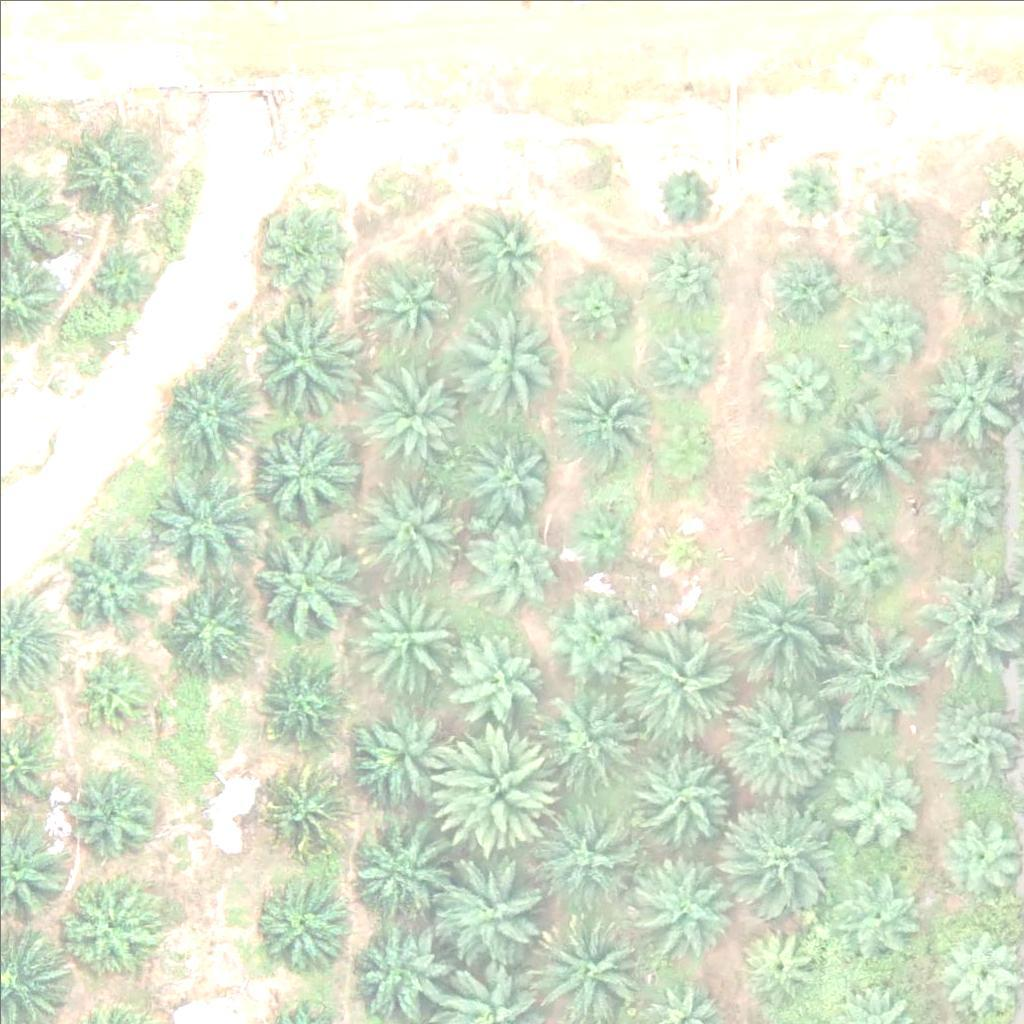Kelapa_Sawit: (427, 724, 552, 850), (437, 858, 550, 972), (148, 471, 261, 584), (247, 527, 360, 640), (243, 416, 356, 529), (531, 799, 644, 912), (624, 744, 737, 857), (727, 683, 840, 796), (728, 580, 840, 694), (245, 304, 357, 417), (632, 843, 744, 956), (627, 626, 739, 739), (730, 792, 842, 905), (162, 362, 262, 463), (62, 117, 162, 218), (250, 878, 350, 979), (254, 189, 354, 290), (343, 819, 443, 920), (357, 582, 457, 683), (362, 470, 462, 571), (366, 362, 466, 463), (540, 690, 640, 791), (538, 589, 638, 690), (746, 441, 846, 542), (832, 392, 932, 493), (832, 620, 932, 721), (922, 344, 1022, 445), (547, 375, 647, 476), (59, 878, 159, 978), (56, 533, 156, 633), (348, 913, 448, 1013), (358, 713, 458, 813), (455, 311, 555, 411), (825, 755, 925, 855), (74, 773, 162, 861), (163, 578, 251, 666), (263, 767, 351, 855), (470, 515, 558, 603), (645, 232, 733, 320), (737, 918, 825, 1006), (823, 516, 911, 604), (468, 427, 555, 516), (838, 867, 925, 956), (261, 659, 348, 747), (361, 257, 448, 345), (459, 208, 546, 296), (453, 635, 540, 723), (636, 313, 723, 401), (919, 447, 1006, 535), (765, 342, 840, 418), (763, 254, 838, 330), (564, 494, 639, 570), (75, 654, 150, 730), (645, 407, 720, 483), (557, 273, 632, 348), (845, 288, 920, 363), (847, 188, 922, 263), (81, 231, 156, 306), (786, 159, 849, 222), (654, 163, 716, 226), (651, 519, 713, 582)
